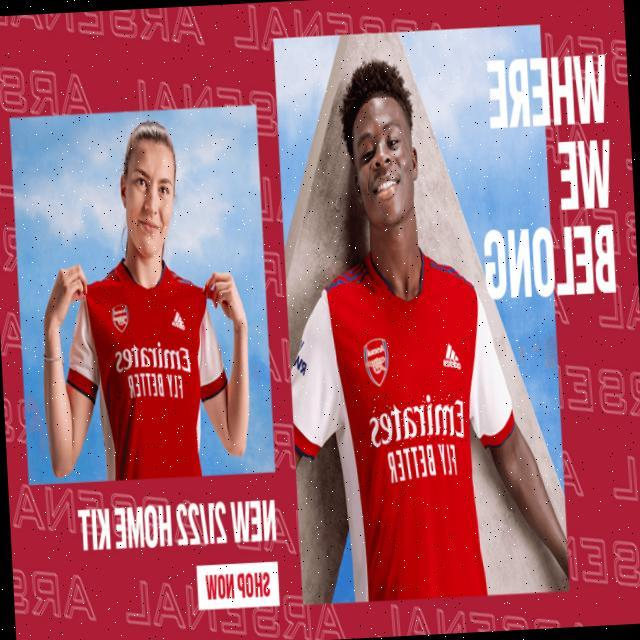Adidas: (441, 341, 461, 371), (172, 309, 186, 331)
Emirates: (368, 391, 467, 447), (115, 340, 192, 376)
